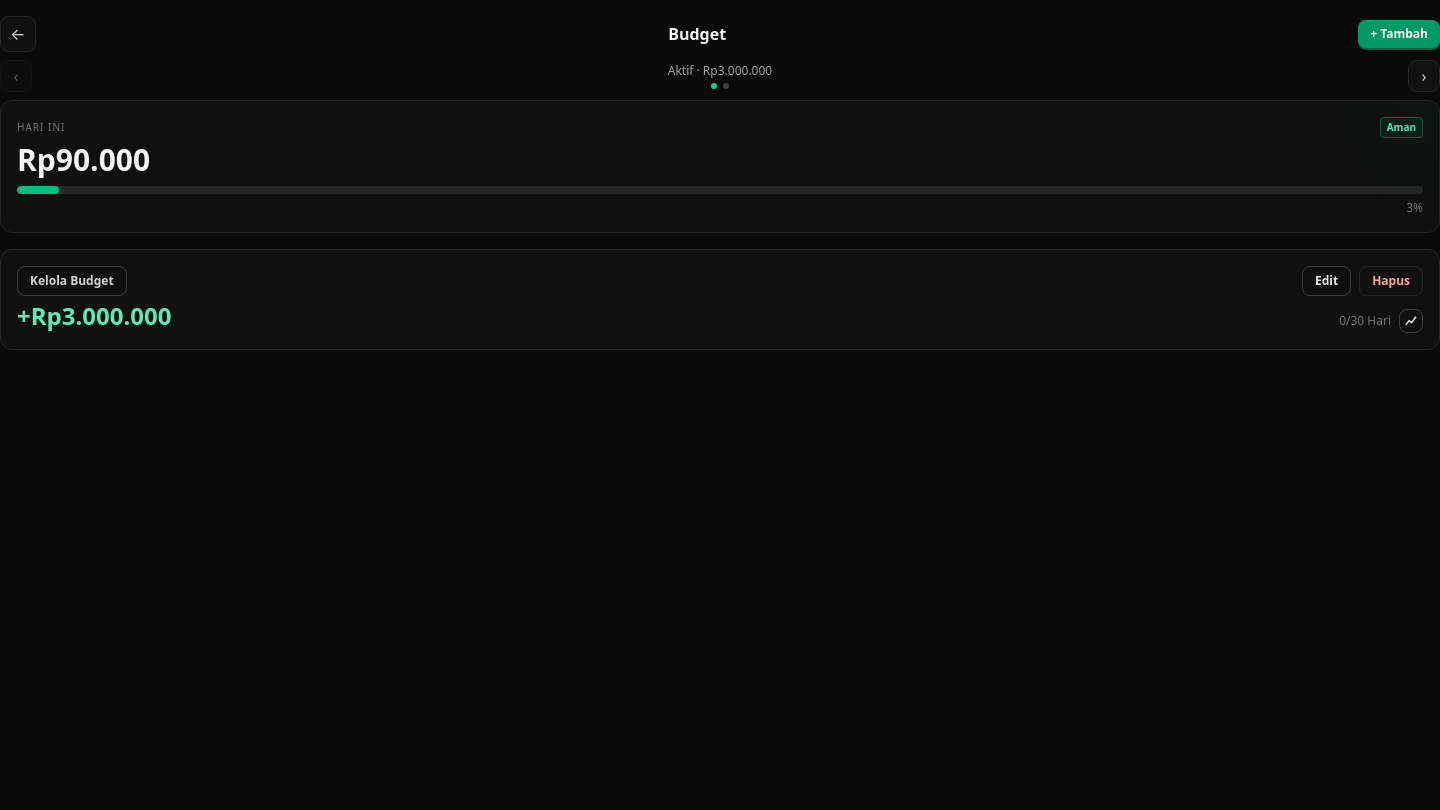
Scenario: BudgetScreen — history navigation + forecast › jumps to a history budget from the Kelola modal
This screenshot has width=1440, height=810.
Click the button with test id "budget-kelola-toggle" at (72, 281), box [17, 266, 127, 296]
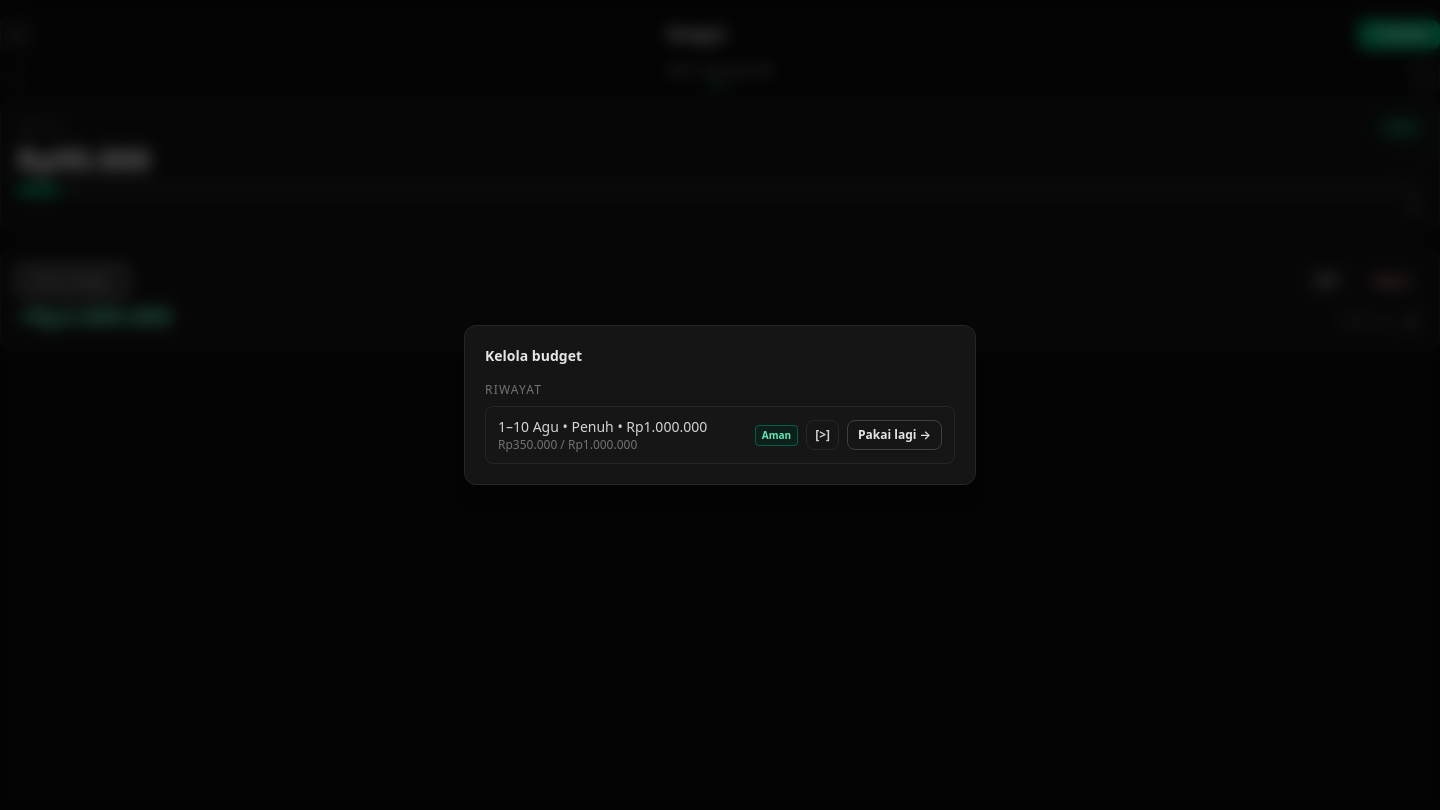
Click the button with test id "budget-history-view-past-1" at (823, 435), box [806, 420, 839, 450]
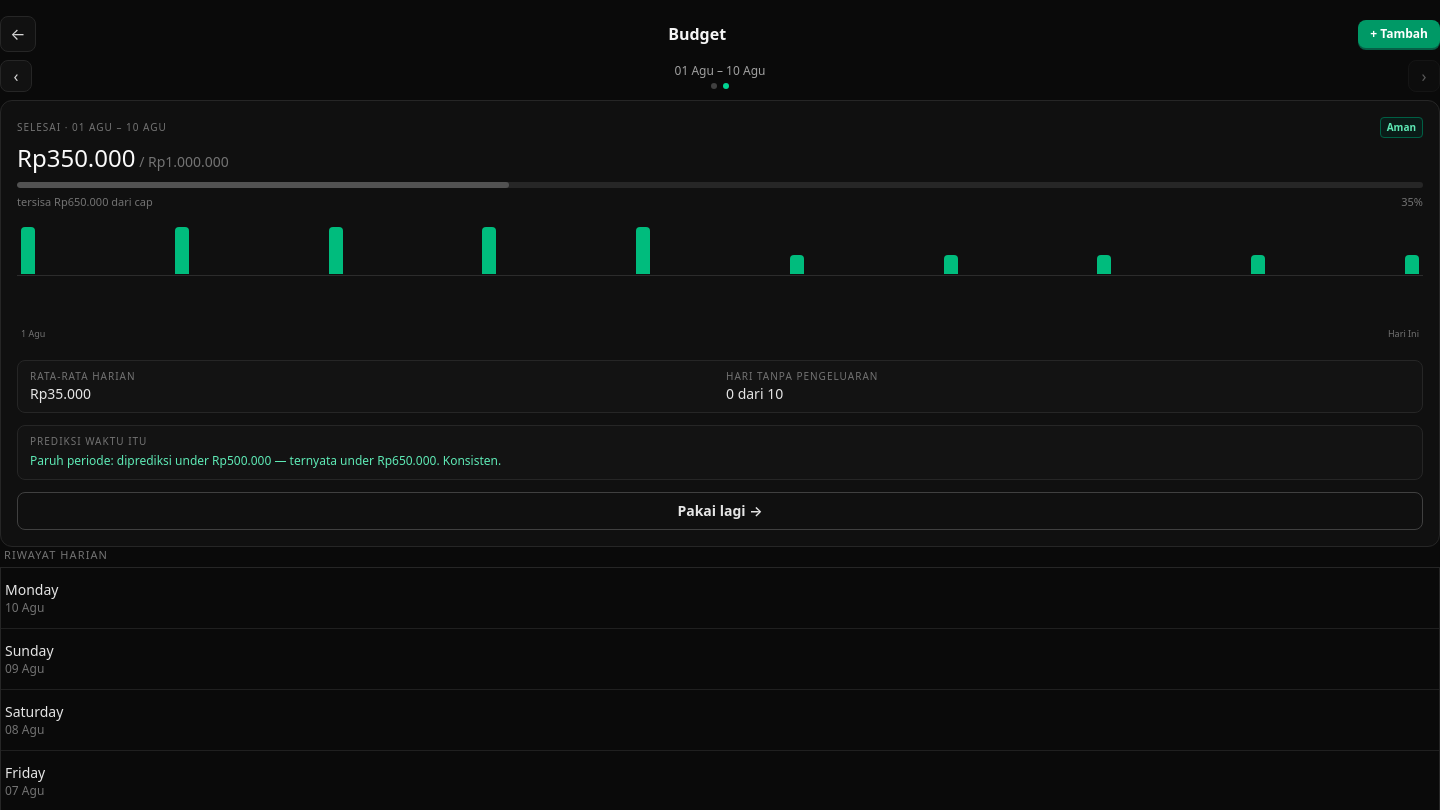
Expected: the element with test id "budget-past-card" is shown, [0, 100, 1439, 546]
Expected: the list item with test id "budget-history-item-past-1" is gone
